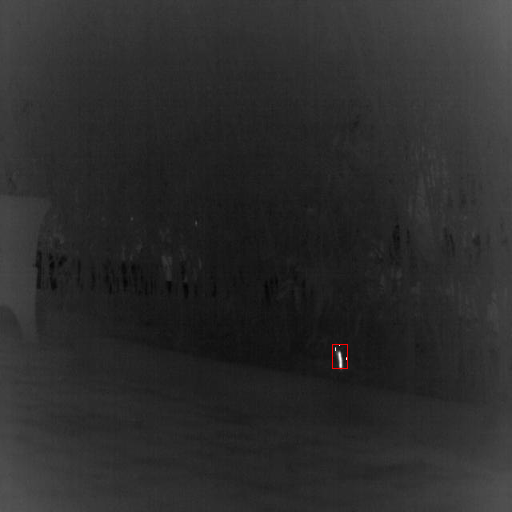Target: (332, 344, 347, 368)
